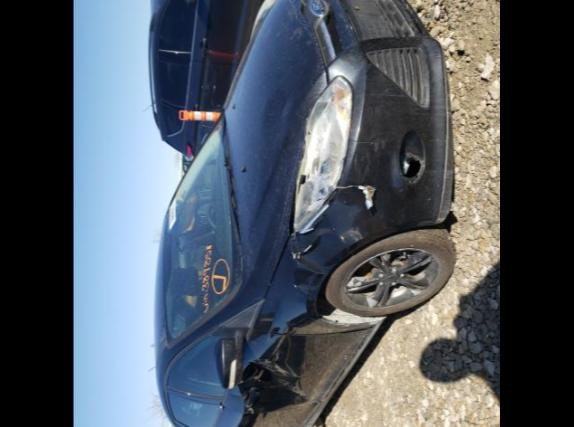Broken part: (290, 76, 376, 233), (398, 150, 426, 182)
Corrosion: (340, 228, 364, 240), (360, 262, 374, 278), (390, 258, 406, 268)
Dent: (290, 194, 352, 294), (238, 340, 316, 416)
Flaking: (282, 0, 314, 44)
Missing part: (341, 0, 394, 40), (408, 160, 420, 172)
Scratch: (292, 231, 320, 258)
